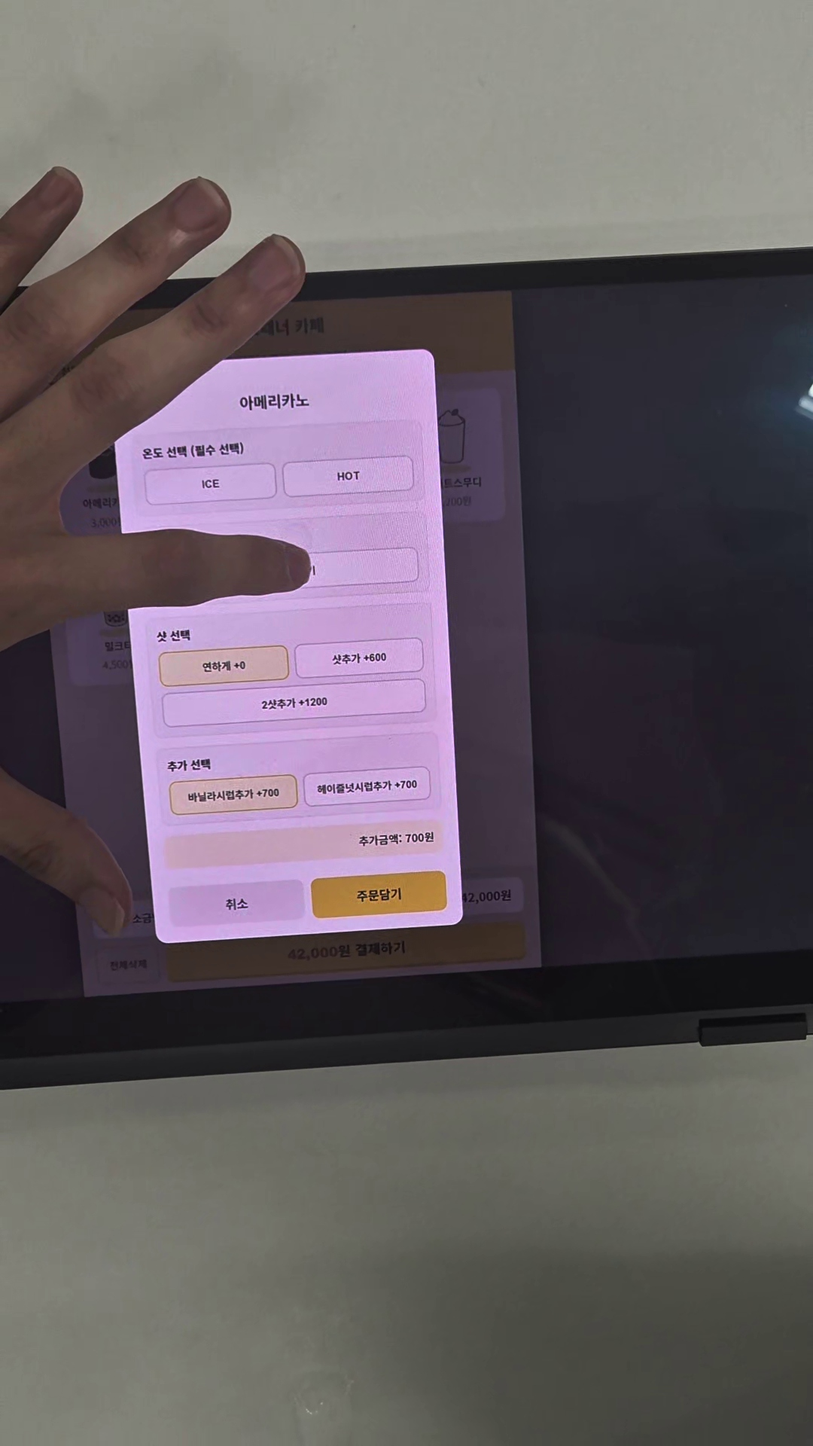action_button: (309, 864, 454, 919), (167, 881, 304, 925)
option_button: (161, 681, 430, 724), (282, 454, 415, 504), (143, 463, 275, 507), (157, 643, 290, 686), (302, 764, 431, 805), (170, 774, 298, 813), (296, 637, 424, 674)
popup_modal: (108, 346, 467, 945)
